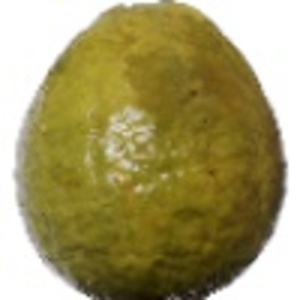goiaba: (10, 7, 288, 293)
